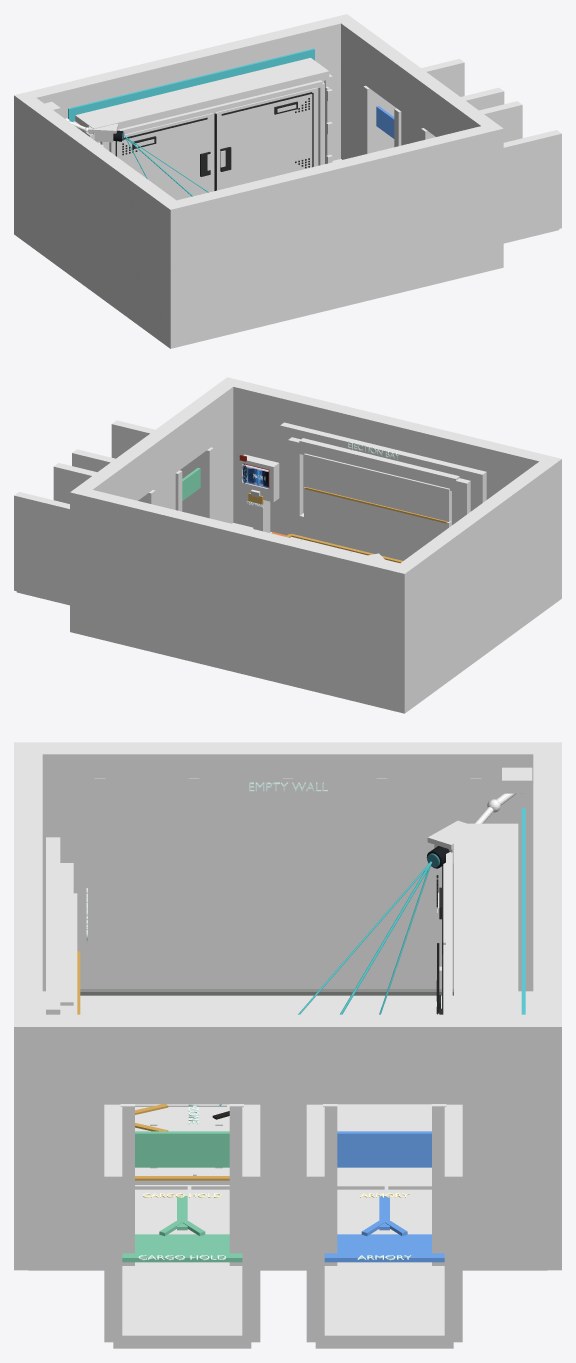
Rendered from supply_room_shell.glb.
3 renders of one model, top to bottom at view 1: azimuth 30°, elevation 25°; view 2: azimuth 150°, elevation 25°; view 3: azimuth 270°, elevation 25°, orthographic. The views are drawn at different scales.
Parts seen in each view (by area): view 1: SR-05 south ejection bay wall shell, SR-01 west empty wall shell, SR-02 north supply storage wall shell, SR-03 closed right flat metal locker door, SR-02 freestanding locker top cap, SR-10 cargo hold direction corridor lower side wall, SR-03 closed left flat metal locker door, SR-09 SR-10 east shared corridor wall sealed final wall segm, SR-02 supply storage wall placement marker only, SR-09 SR-10 east shared corridor wall sealed wall segment 2, SR-09 SR-10 east shared corridor wall armory doorway upper h, SR-09 SR-10 east shared corridor wall cargo hold doorway upp (+8 smaller); view 2: SR-02 north supply storage wall shell, SR-01 west empty wall shell, SR-05 south ejection bay wall shell, SR-09 armory direction corridor upper side wall, SR-06 ejection bay upper closed door, SR-05 ejection bay wall position backplate, SR-06 ejection bay lower closed door, SR-09 SR-10 east shared corridor wall sealed wall segment 1, SR-05 ejection bay closed frame top, SR-09 SR-10 east shared corridor wall sealed wall segment 2, SR-09 SR-10 east shared corridor wall cargo hold doorway upp, SR-09 SR-10 east shared corridor wall armory doorway upper h (+13 smaller); view 3: SR-01 west empty wall shell, SR-09 SR-10 east shared corridor wall sealed final wall segm, SR-09 SR-10 east shared corridor wall sealed wall segment 1, SR-09 SR-10 east shared corridor wall sealed wall segment 2, SR-02 north supply storage wall shell, SR-05 south ejection bay wall shell, SR-02 freestanding locker top cap, SR-09 SR-10 east shared corridor wall cargo hold doorway upp (×2), SR-09 armory direction corridor floor continuation, SR-10 cargo hold direction corridor floor continuation, SR-09 SR-10 east shared corridor wall armory doorway upper h, SR-01 removable supply room floor plate +2.6 (+26 smaller).
Boxes of the visible parts, x1,y1,x2,y2 form: SR-05 south ejection bay wall shell: (162, 122, 503, 348); SR-01 west empty wall shell: (19, 92, 184, 348); SR-02 north supply storage wall shell: (14, 14, 354, 239); SR-03 closed right flat metal locker door: (214, 87, 317, 191); SR-02 freestanding locker top cap: (75, 58, 329, 136); SR-10 cargo hold direction corridor lower side wall: (503, 130, 561, 242); SR-03 closed left flat metal locker door: (109, 113, 212, 200); SR-09 SR-10 east shared corridor wall sealed final wall segm: (341, 20, 381, 159); SR-02 supply storage wall placement marker only: (68, 48, 314, 121); SR-09 SR-10 east shared corridor wall sealed wall segment 2: (399, 62, 439, 145); SR-09 SR-10 east shared corridor wall armory doorway upper h: (368, 40, 412, 109); SR-09 SR-10 east shared corridor wall cargo hold doorway upp: (425, 82, 470, 136); SR-02 north supply storage wall shell: (70, 486, 412, 713); SR-01 west empty wall shell: (390, 455, 561, 712); SR-05 south ejection bay wall shell: (220, 377, 561, 604); SR-09 armory direction corridor upper side wall: (14, 492, 69, 603); SR-06 ejection bay upper closed door: (304, 453, 451, 521); SR-05 ejection bay wall position backplate: (280, 422, 486, 558); SR-06 ejection bay lower closed door: (304, 487, 451, 548); SR-09 SR-10 east shared corridor wall sealed wall segment 1: (195, 381, 236, 523); SR-05 ejection bay closed frame top: (299, 438, 459, 491); SR-09 SR-10 east shared corridor wall sealed wall segment 2: (137, 424, 177, 509); SR-09 SR-10 east shared corridor wall cargo hold doorway upp: (164, 401, 208, 471); SR-09 SR-10 east shared corridor wall armory doorway upper h: (105, 443, 150, 500); SR-01 west empty wall shell: (14, 742, 561, 991); SR-09 SR-10 east shared corridor wall sealed final wall segm: (439, 1014, 547, 1270); SR-09 SR-10 east shared corridor wall sealed wall segment 1: (28, 1014, 127, 1270); SR-09 SR-10 east shared corridor wall sealed wall segment 2: (237, 1014, 329, 1270); SR-02 north supply storage wall shell: (533, 742, 561, 1270); SR-05 south ejection bay wall shell: (14, 742, 42, 1270); SR-02 freestanding locker top cap: (454, 823, 518, 1014); SR-09 SR-10 east shared corridor wall cargo hold doorway upp (×2): (127, 1014, 243, 1265); SR-09 armory direction corridor floor continuation: (315, 1262, 453, 1348); SR-10 cargo hold direction corridor floor continuation: (113, 1262, 251, 1348); SR-09 SR-10 east shared corridor wall armory doorway upper h: (330, 1014, 439, 1103); SR-01 removable supply room floor plate +2.6: (135, 1196, 431, 1234).
Size of the model in its own units: 9.42 by 3.08 by 6.12.
37 materials, 1 textured.
